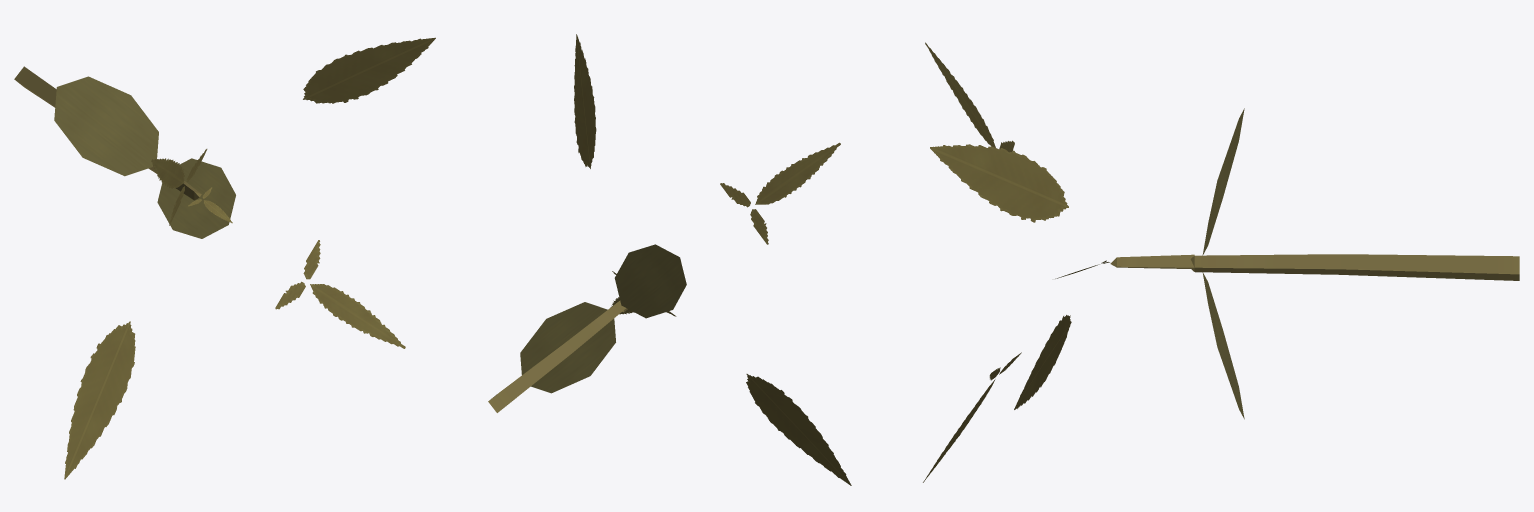
The model's file is p_seedling_c2_cards.obj.
3 views of the same model, side by side, from view 1: azimuth 30°, elevation 25°; view 2: azimuth 150°, elevation 25°; view 3: azimuth 270°, elevation 25° (orthographic). The views are drawn at different scales.
Bounding box in the file's own units: 0.455 × 0.495 × 0.542.
1 material, 1 textured.
